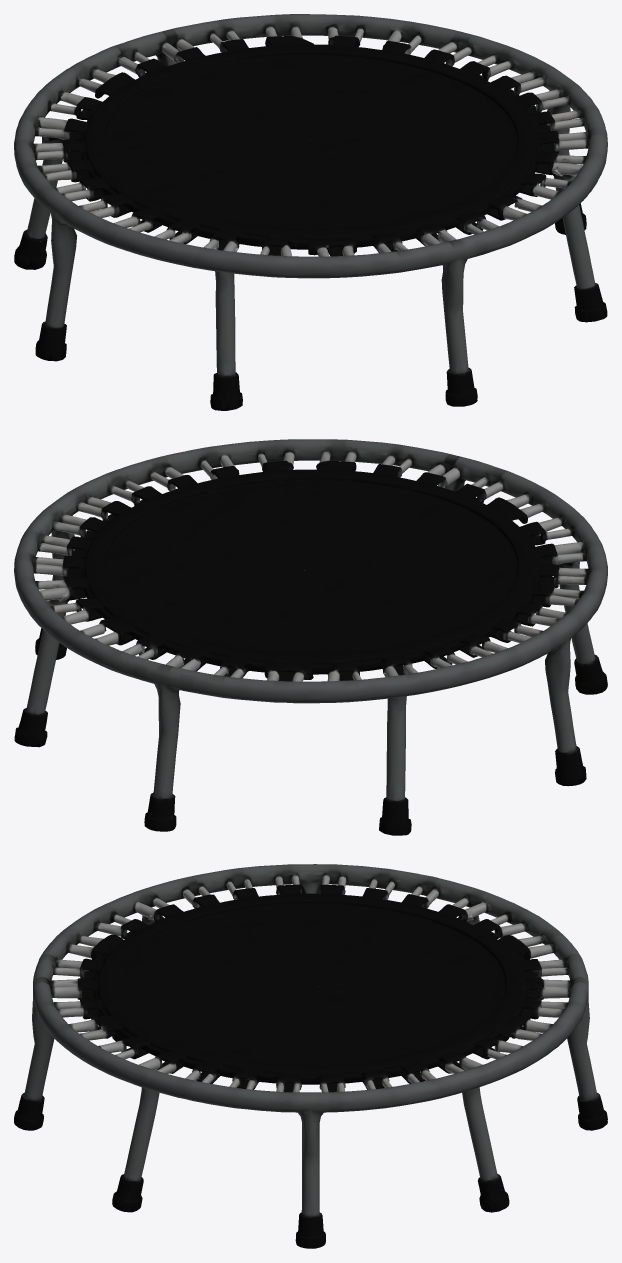
File: trampoline.glb
3 renders of one model, top to bottom at view 1: azimuth 30°, elevation 25°; view 2: azimuth 150°, elevation 25°; view 3: azimuth 270°, elevation 25°, orthographic. The views are drawn at different scales.
Visible parts, largest first — view 1: trampoline; view 2: trampoline; view 3: trampoline.
Part boxes in pixels (box(x1,y1,x2,y2)): trampoline: box(14, 14, 607, 410); trampoline: box(14, 439, 607, 835); trampoline: box(14, 864, 607, 1248).
Size of the model in its own units: 0.9967 by 0.2729 by 1.
1 material, 1 textured.
